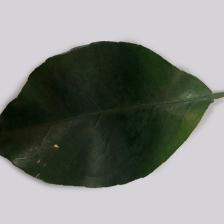healthy: (5, 54, 168, 159)
